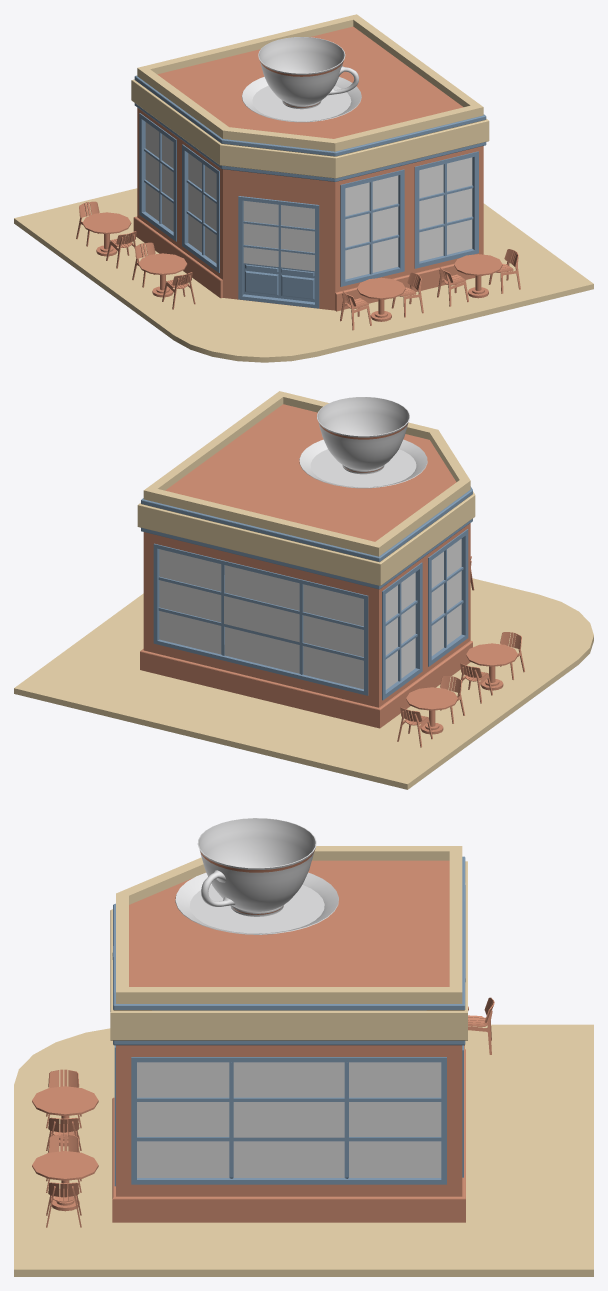
File: commercial-building-coffee-shop.fbx
The picture shows the model from 3 angles, top to bottom: view 1: azimuth 30°, elevation 25°; view 2: azimuth 150°, elevation 25°; view 3: azimuth 270°, elevation 25°; orthographic projection. The views are drawn at different scales.
Parts seen in each view (by area): view 1: commercial-building-coffee-shop, coffee-shop-teacup; view 2: commercial-building-coffee-shop, coffee-shop-teacup; view 3: commercial-building-coffee-shop, coffee-shop-teacup.
Part boxes in pixels (x1,y1,x2,y2): commercial-building-coffee-shop: [14, 14, 593, 362]; coffee-shop-teacup: [242, 37, 361, 122]; commercial-building-coffee-shop: [14, 391, 593, 789]; coffee-shop-teacup: [299, 397, 427, 488]; commercial-building-coffee-shop: [14, 846, 593, 1276]; coffee-shop-teacup: [175, 818, 338, 934].
Size of the model in its own units: 12.8 by 7.26 by 12.8.
